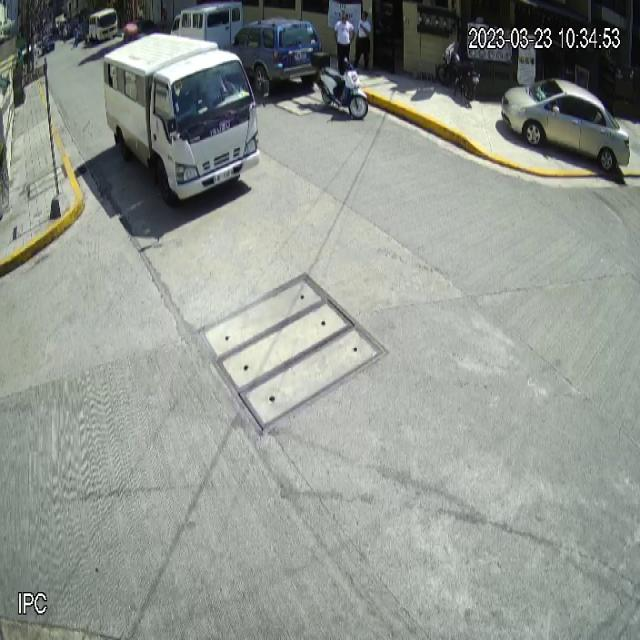Car: (501, 79, 631, 172), (216, 16, 322, 96)
Motorcycle: (311, 51, 368, 121)
Van: (102, 30, 262, 205), (170, 0, 243, 40)
